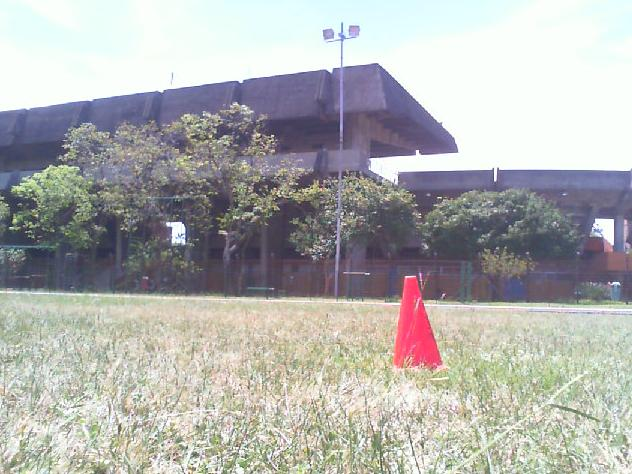0 cone: (388, 276, 449, 373)
